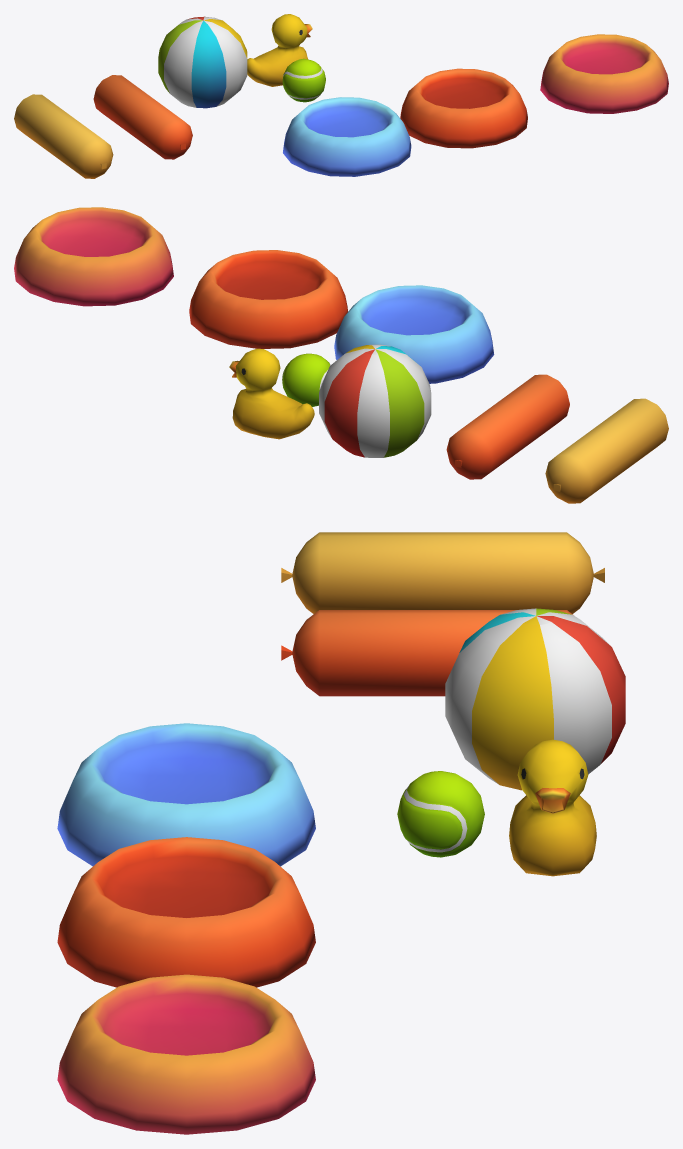
File: pet 9.fbx
The picture shows the model from 3 angles, top to bottom: view 1: azimuth 30°, elevation 25°; view 2: azimuth 150°, elevation 25°; view 3: azimuth 270°, elevation 25°; orthographic projection. The views are drawn at different scales.
Parts seen in each view (by area): view 1: Cube.274, Cube.127, Cube.126, Sphere, Sausage 1_Sausage 1_0.002, Sausage 1_Sausage 1_0.001, Rubber_Duck_Yellow_0, Object_4.005; view 2: Cube.127, Cube.126, Cube.274, Sphere, Sausage 1_Sausage 1_0.001, Sausage 1_Sausage 1_0.002, Rubber_Duck_Yellow_0, Object_4.005; view 3: Cube.127, Cube.126, Cube.274, Sphere, Sausage 1_Sausage 1_0.002, Sausage 1_Sausage 1_0.001, Rubber_Duck_Yellow_0, Object_4.005.
Boxes of the visible parts, bbox=[...] form: Cube.274: bbox=[283, 97, 411, 176]; Cube.127: bbox=[540, 34, 668, 113]; Cube.126: bbox=[400, 68, 527, 148]; Sphere: bbox=[158, 16, 247, 108]; Sausage 1_Sausage 1_0.002: bbox=[14, 94, 113, 178]; Sausage 1_Sausage 1_0.001: bbox=[93, 75, 192, 159]; Rubber_Duck_Yellow_0: bbox=[247, 14, 312, 86]; Object_4.005: bbox=[282, 58, 325, 102]; Cube.127: bbox=[14, 207, 173, 306]; Cube.126: bbox=[189, 250, 347, 348]; Cube.274: bbox=[334, 285, 494, 383]; Sphere: bbox=[319, 344, 431, 457]; Sausage 1_Sausage 1_0.001: bbox=[446, 374, 569, 479]; Sausage 1_Sausage 1_0.002: bbox=[545, 398, 668, 503]; Rubber_Duck_Yellow_0: bbox=[229, 348, 314, 439]; Object_4.005: bbox=[282, 353, 330, 406]; Cube.127: bbox=[57, 974, 315, 1134]; Cube.126: bbox=[57, 837, 315, 987]; Cube.274: bbox=[57, 723, 315, 866]; Sphere: bbox=[445, 608, 625, 790]; Sausage 1_Sausage 1_0.002: bbox=[281, 532, 604, 613]; Sausage 1_Sausage 1_0.001: bbox=[281, 610, 572, 696]; Rubber_Duck_Yellow_0: bbox=[509, 739, 596, 876]; Object_4.005: bbox=[397, 771, 484, 857].
Size of the model in its own units: 161 by 23.5 by 71.98.
Materials: 2 (2 with a texture image).
